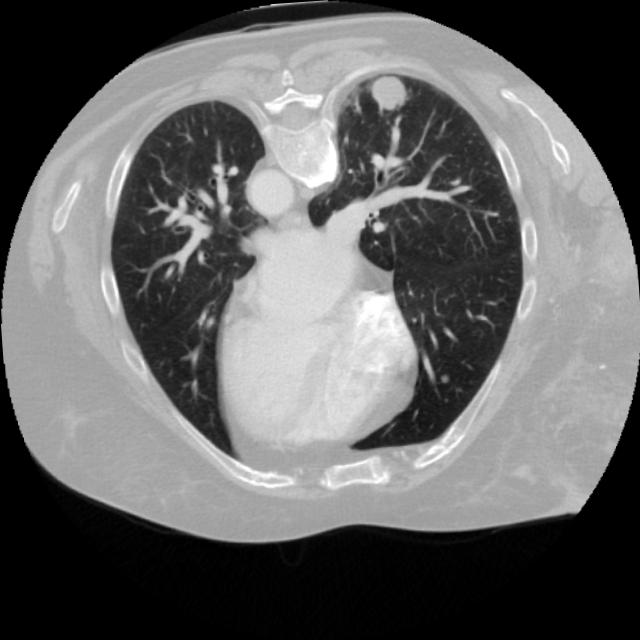nodule: (347, 50, 430, 134)
